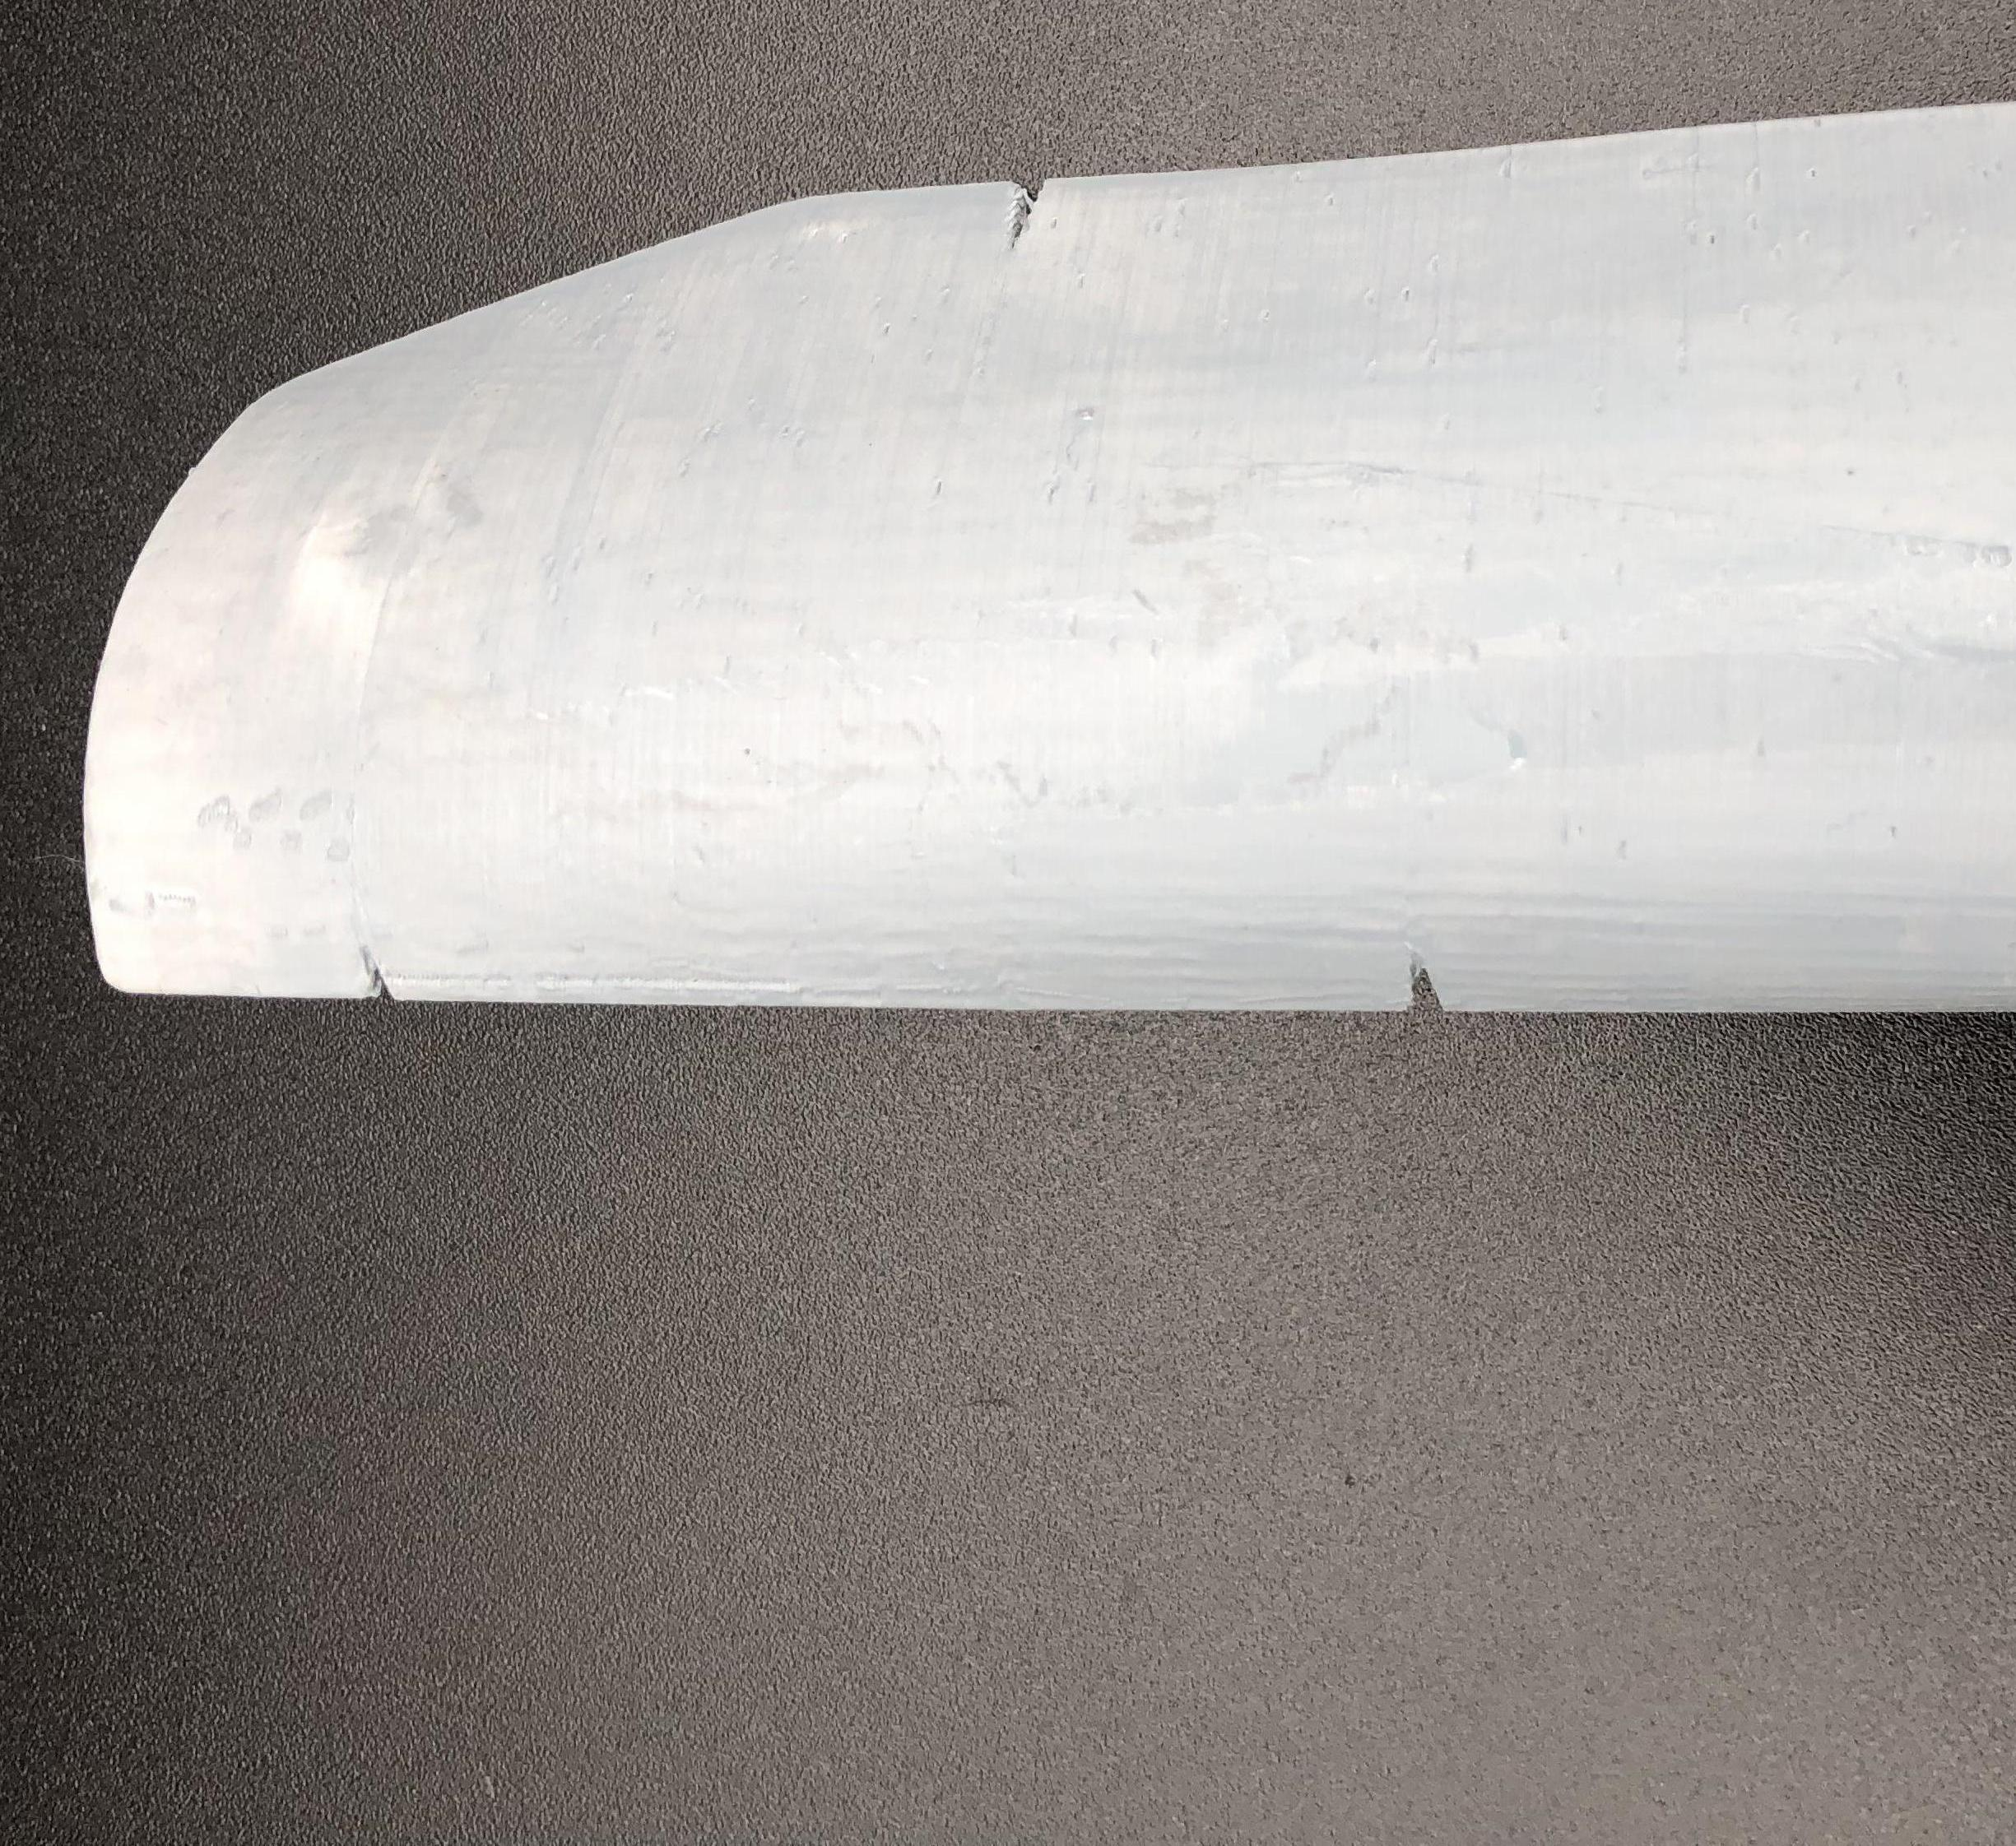groove: (987, 177, 1084, 255), (1380, 950, 1480, 1017), (344, 947, 420, 1005)
